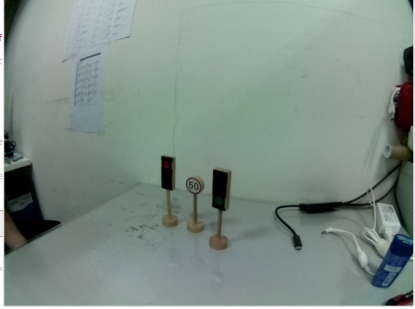Green: (209, 166, 232, 214)
Red: (157, 155, 178, 195)
Speed50: (183, 173, 205, 196)
